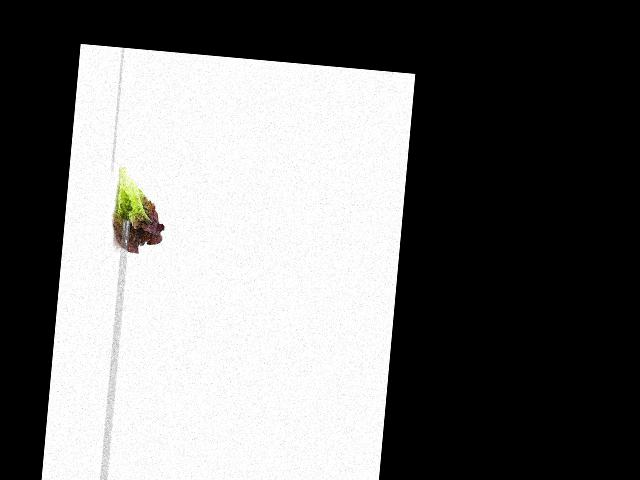lettuce: (106, 162, 170, 257)
